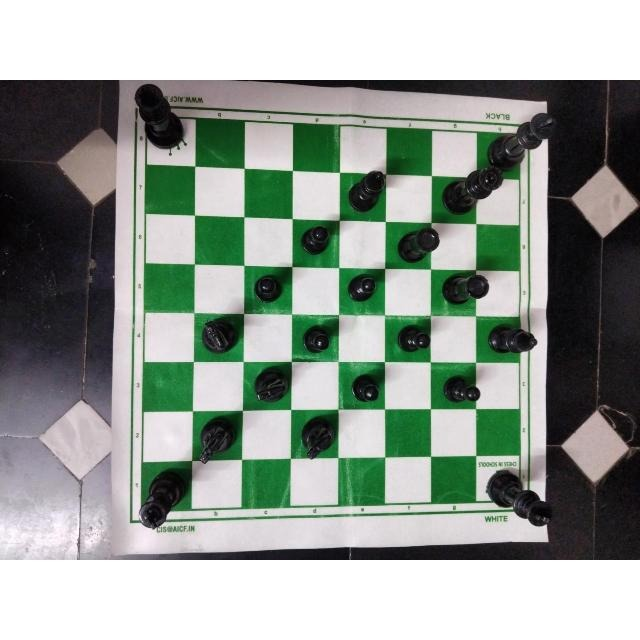black-bishop: (487, 318, 539, 360), (343, 167, 388, 215)
black-king: (481, 467, 556, 529), (128, 82, 190, 152), (488, 110, 558, 171), (135, 468, 190, 530)
black-knight: (195, 411, 243, 466), (295, 414, 339, 458), (200, 316, 243, 359), (247, 362, 291, 403)
black-pawn: (335, 268, 383, 308), (291, 221, 334, 261), (437, 375, 483, 411), (343, 371, 383, 409), (393, 321, 432, 357), (301, 324, 337, 358), (251, 274, 288, 306)
black-queen: (440, 165, 504, 217)
black-rook: (394, 222, 442, 266), (437, 270, 490, 308)
